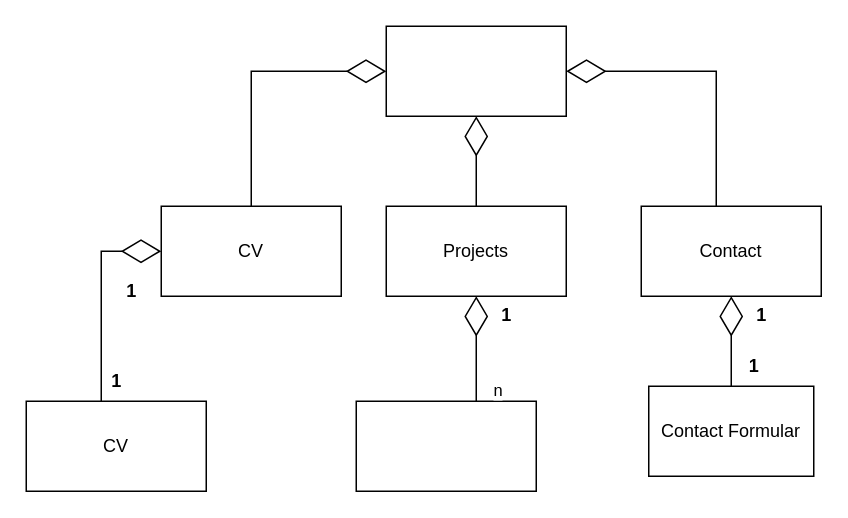
The diagram is 848 pixels wide and 518 high, and some of its shapes have lost their labels. Each missing label, with the box of its shape:
Project: (355, 400, 536, 491)
Website: (385, 25, 566, 116)
